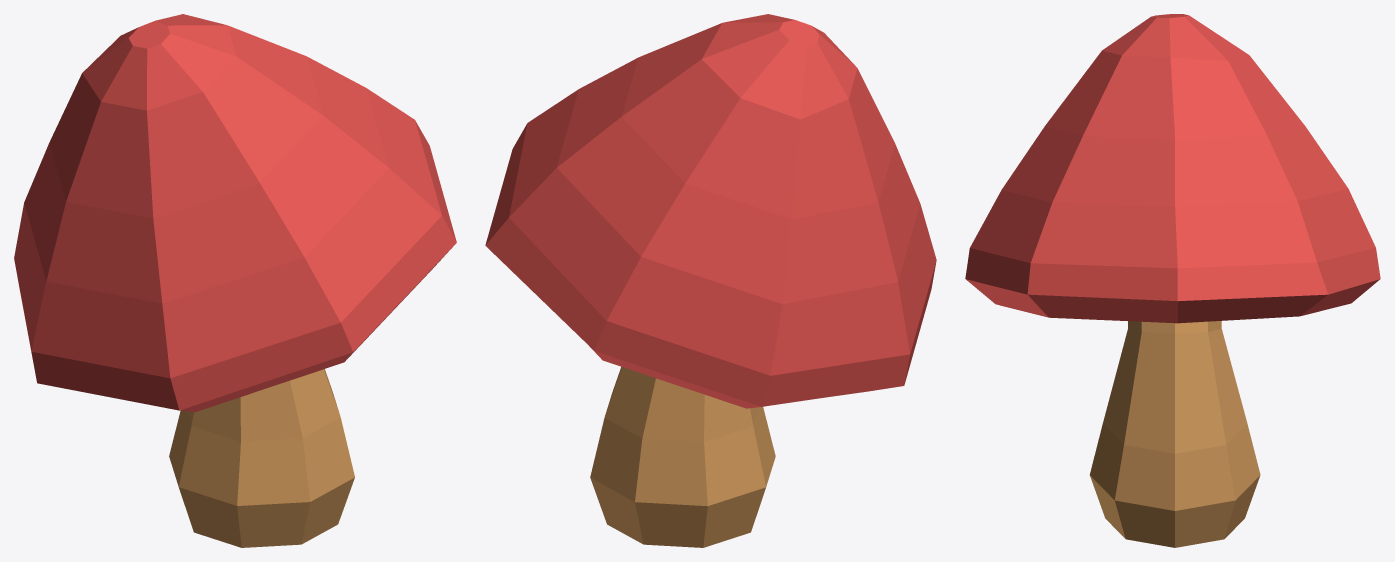
Rendered from Mush3.fbx.
3 renders of one model, left to right at view 1: azimuth 30°, elevation 25°; view 2: azimuth 150°, elevation 25°; view 3: azimuth 270°, elevation 25°, orthographic. The views are drawn at different scales.
Parts seen in each view (by area): view 1: Icosphere.006; view 2: Icosphere.006; view 3: Icosphere.006.
Boxes of the visible parts, x1,y1,x2,y2 form: Icosphere.006: [14, 14, 456, 547]; Icosphere.006: [485, 14, 936, 547]; Icosphere.006: [965, 14, 1380, 547].
Size of the model in its own units: 162 by 201 by 165.
